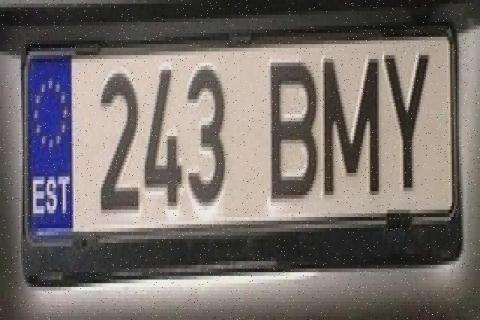LicensePlate: (13, 16, 472, 308)
